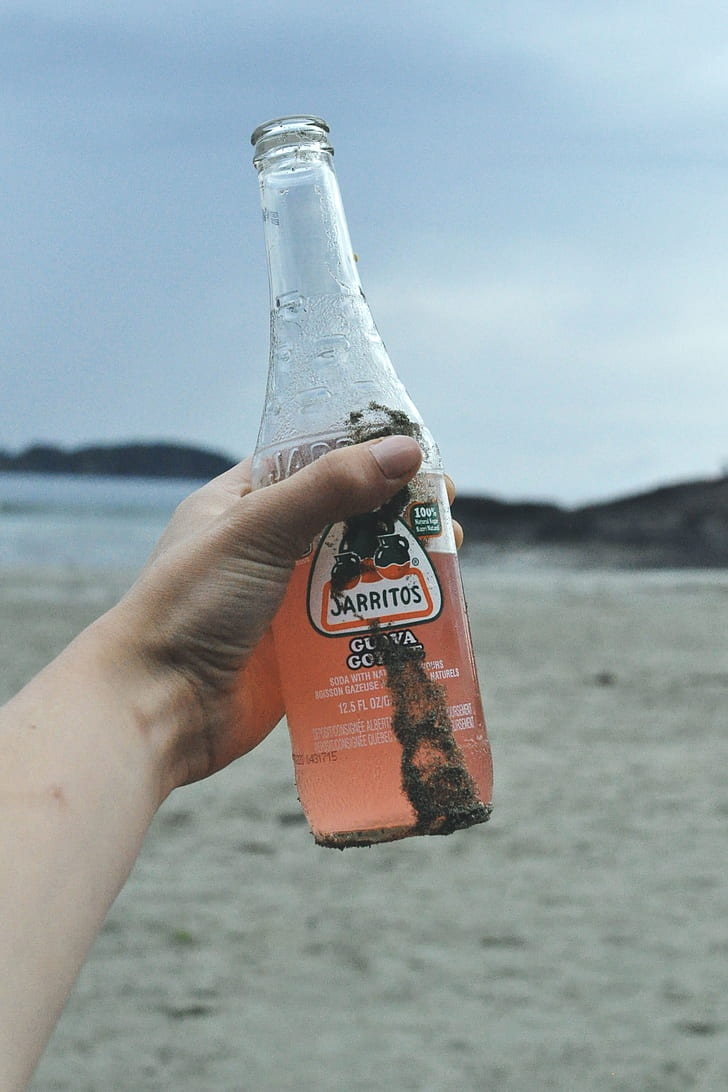beerBottle: (243, 132, 501, 844)
